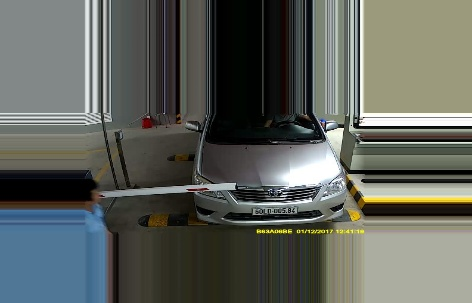plate: (251, 202, 301, 217)
